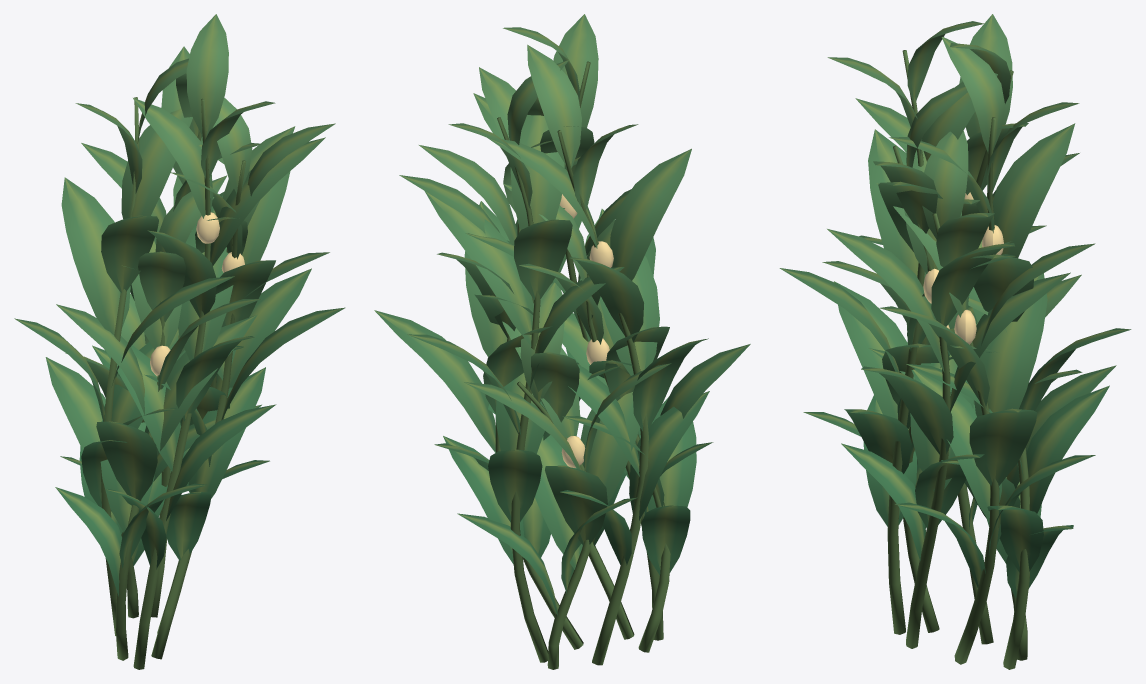
Rendered from kelp.glb.
The picture shows the model from 3 angles, left to right: view 1: azimuth 30°, elevation 25°; view 2: azimuth 150°, elevation 25°; view 3: azimuth 270°, elevation 25°; orthographic projection. The views are drawn at different scales.
Parts seen in each view (by area): view 1: foliage, stem, wax; view 2: foliage, stem, wax; view 3: foliage, stem, wax.
Boxes of the visible parts, left/top/right/bottom form: foliage: left=14, top=14, right=345, bottom=596; stem: left=101, top=97, right=245, bottom=669; wax: left=150, top=212, right=244, bottom=376; foliage: left=374, top=14, right=750, bottom=615; stem: left=495, top=61, right=670, bottom=669; wax: left=559, top=194, right=613, bottom=467; foliage: left=779, top=14, right=1131, bottom=598; stem: left=887, top=50, right=1029, bottom=669; wax: left=923, top=192, right=1003, bottom=344.
Size of the model in its own units: 1.89 by 3.46 by 1.64.
